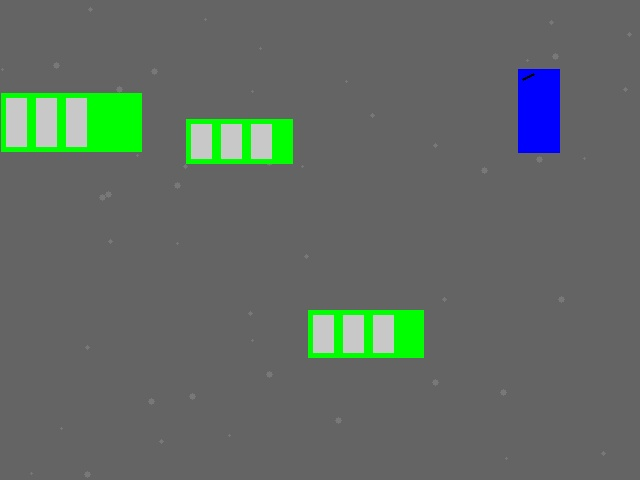bus: (1, 93, 141, 151), (308, 310, 423, 357), (186, 119, 292, 163)
motorcycle: (518, 69, 559, 152)
